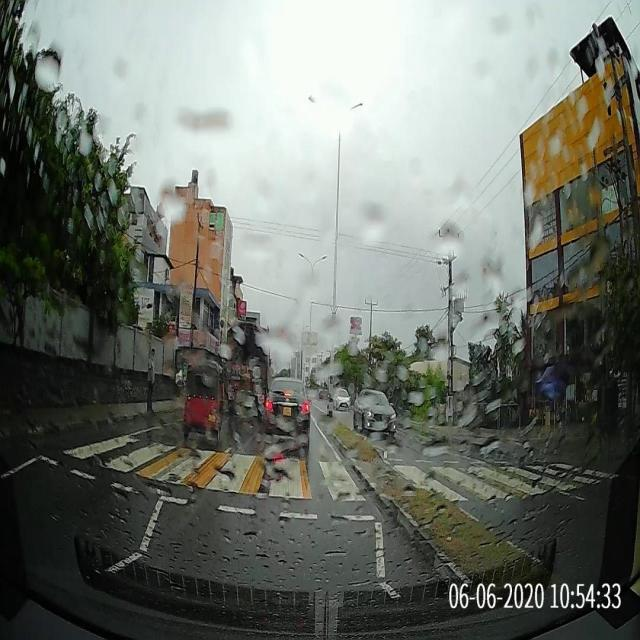Crosswalk: (58, 431, 620, 507)
